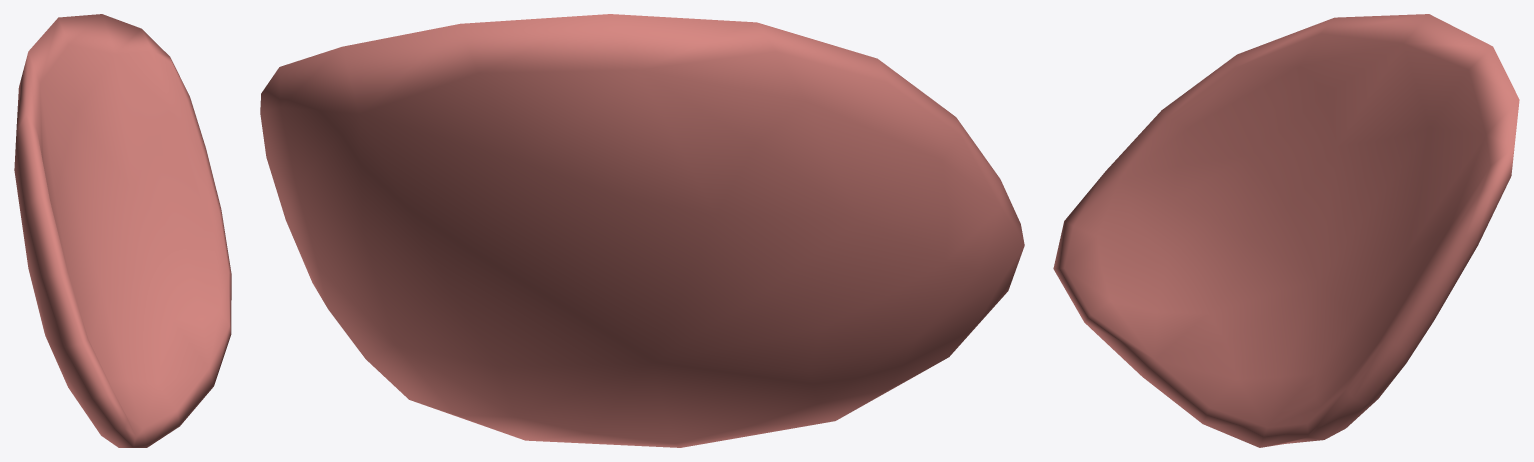
The picture shows the model from 3 angles, left to right: view 1: azimuth 30°, elevation 25°; view 2: azimuth 150°, elevation 25°; view 3: azimuth 270°, elevation 25°; orthographic projection. The views are drawn at different scales.
Visible parts, largest first — view 1: ZA_16005996c6e080a4; view 2: ZA_16005996c6e080a4; view 3: ZA_16005996c6e080a4.
Part boxes in pixels (x1=…): ZA_16005996c6e080a4: x1=14, y1=14, x2=231, y2=447; ZA_16005996c6e080a4: x1=260, y1=14, x2=1024, y2=447; ZA_16005996c6e080a4: x1=1053, y1=14, x2=1519, y2=447.
Bounding box in the file's own units: 0.00491 × 0.00554 × 0.00619.
